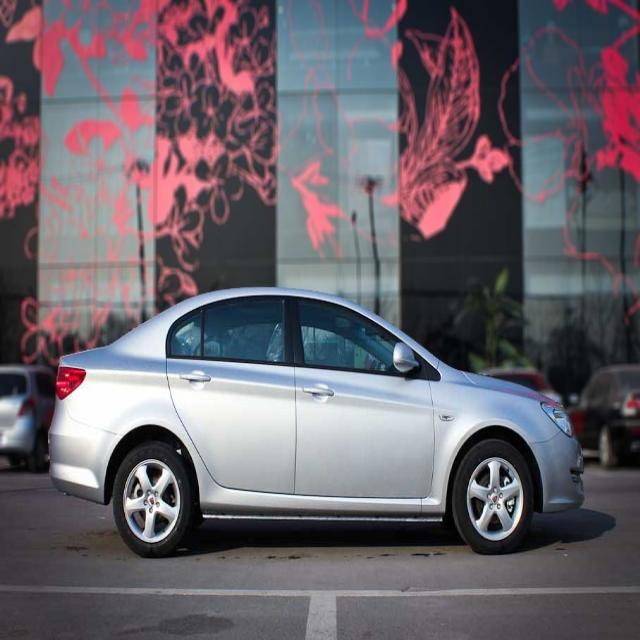back_right_side_light: (50, 359, 90, 401)
door: (160, 295, 302, 494)
front_bumper: (525, 428, 588, 516)
front_right_side_door: (290, 292, 438, 501)
front_right_side_light: (540, 398, 576, 437)
front_right_side_mirror: (391, 338, 421, 376)
rear_bumper: (44, 397, 125, 509)
wheel: (452, 438, 535, 554), (113, 442, 194, 558)
